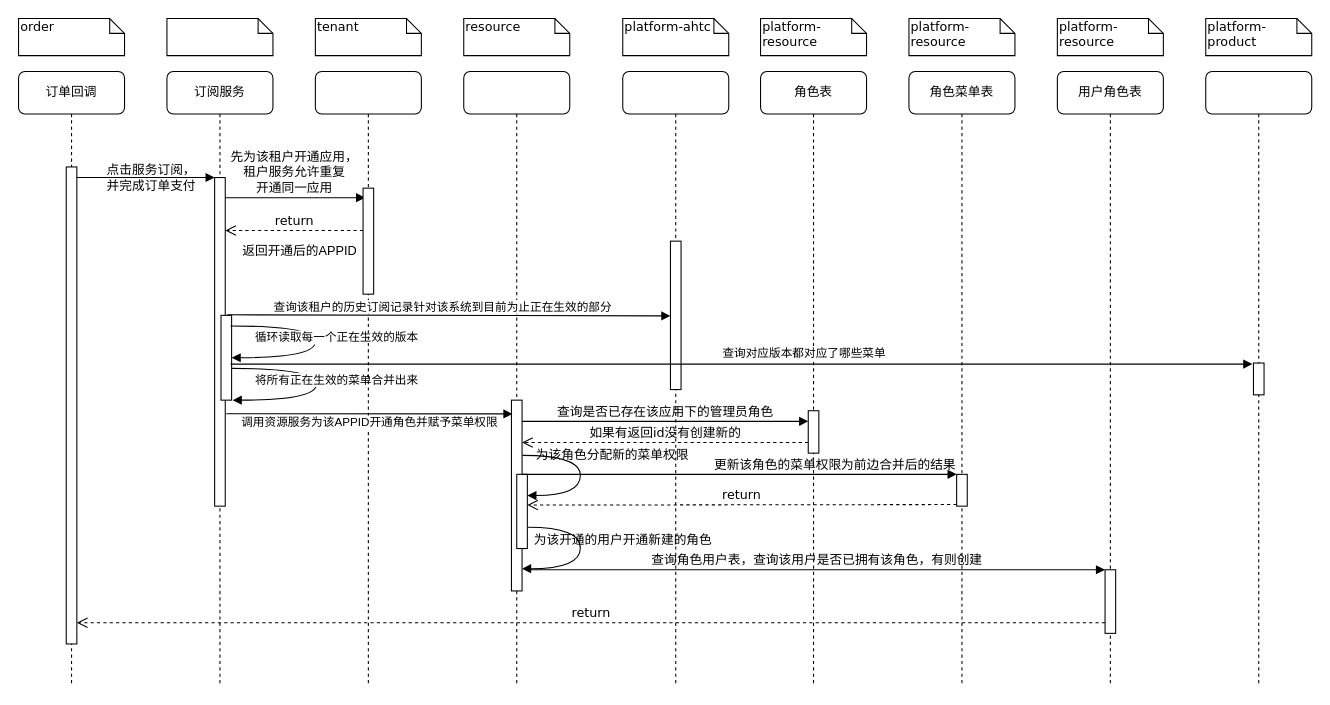
Some shapes in this 1330 by 705 pixel diagram are drawn without their labels. Here are the shapes that lost their labels. From the top down, the centre of each, then its label:
[367,378]: 租户服务
[516,378]: 资源服务
[675,378]: 订阅记录表
[1258,378]: 版本菜单表
